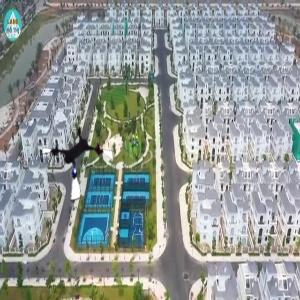drone: (38, 123, 118, 203)
